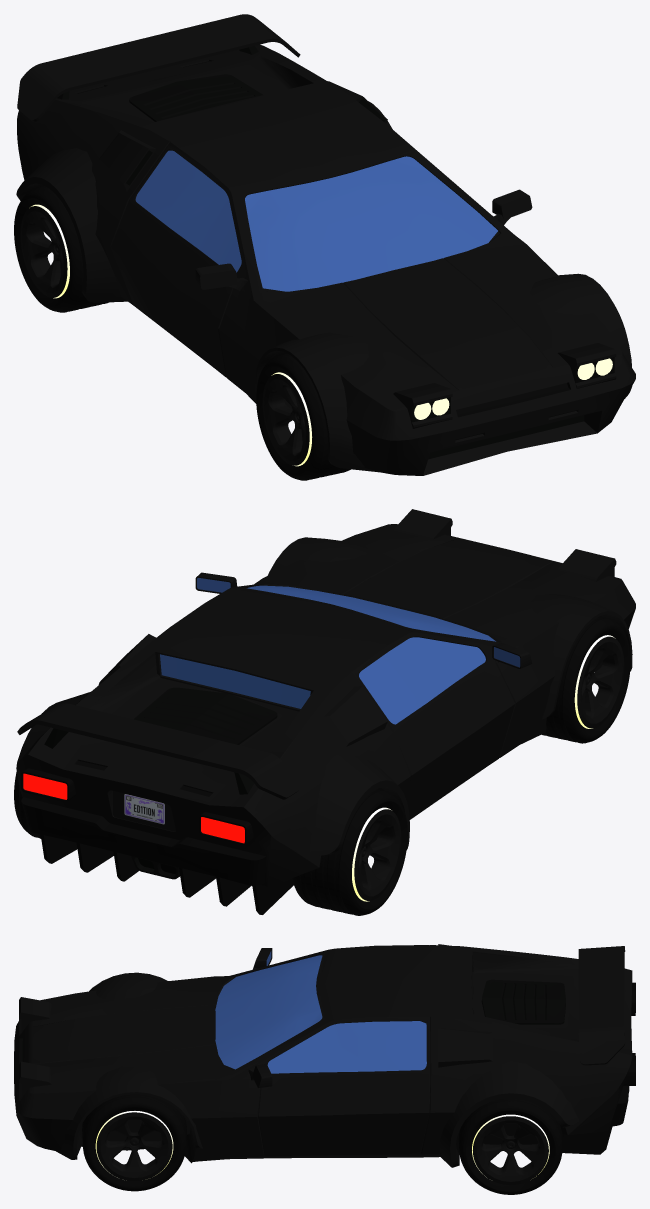
The model's file is racing_game_car_18.glb.
3 renders of one model, top to bottom at view 1: azimuth 30°, elevation 25°; view 2: azimuth 150°, elevation 25°; view 3: azimuth 270°, elevation 25°, orthographic. The views are drawn at different scales.
Parts seen in each view (by area): view 1: body, right_tire_front, right_tire_rear; view 2: body, right_tire_rear, right_tire_front; view 3: body, left_tire_front, left_tire_rear.
Part boxes in pixels (box(x1,y1,x2,y2)): body: box(16, 14, 635, 475); right_tire_front: box(256, 353, 350, 480); right_tire_rear: box(14, 186, 108, 312); body: box(16, 509, 635, 914); right_tire_rear: box(292, 789, 407, 915); right_tire_front: box(541, 616, 630, 743); body: box(14, 944, 635, 1167); left_tire_front: box(82, 1094, 186, 1191); left_tire_rear: box(458, 1098, 563, 1194).
Bounding box in the file's own units: 1.51 × 0.8151 × 2.98.
3 materials, 1 textured.
